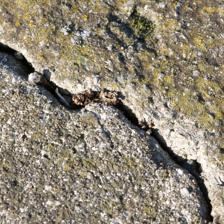Crack: (1, 20, 214, 204)
